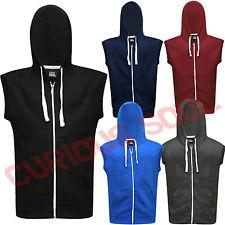C_vest: (1, 2, 107, 219), (161, 99, 225, 225), (101, 2, 166, 121), (99, 99, 160, 225), (165, 1, 225, 117)
